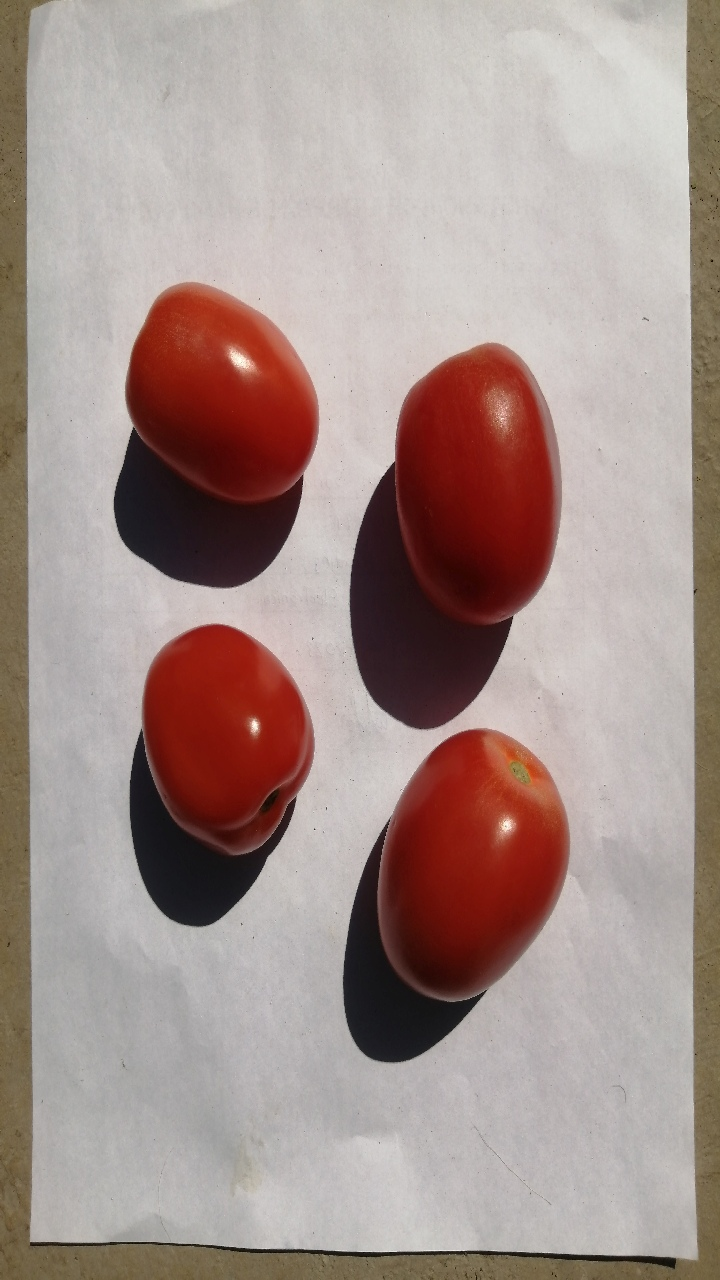tomateRojo: (351, 709, 597, 1017), (374, 322, 584, 648), (109, 266, 331, 531), (117, 615, 329, 877)
